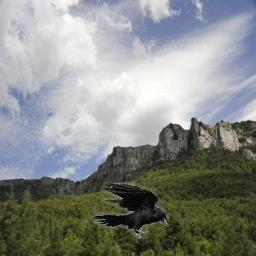Crow: (91, 182, 169, 239)
